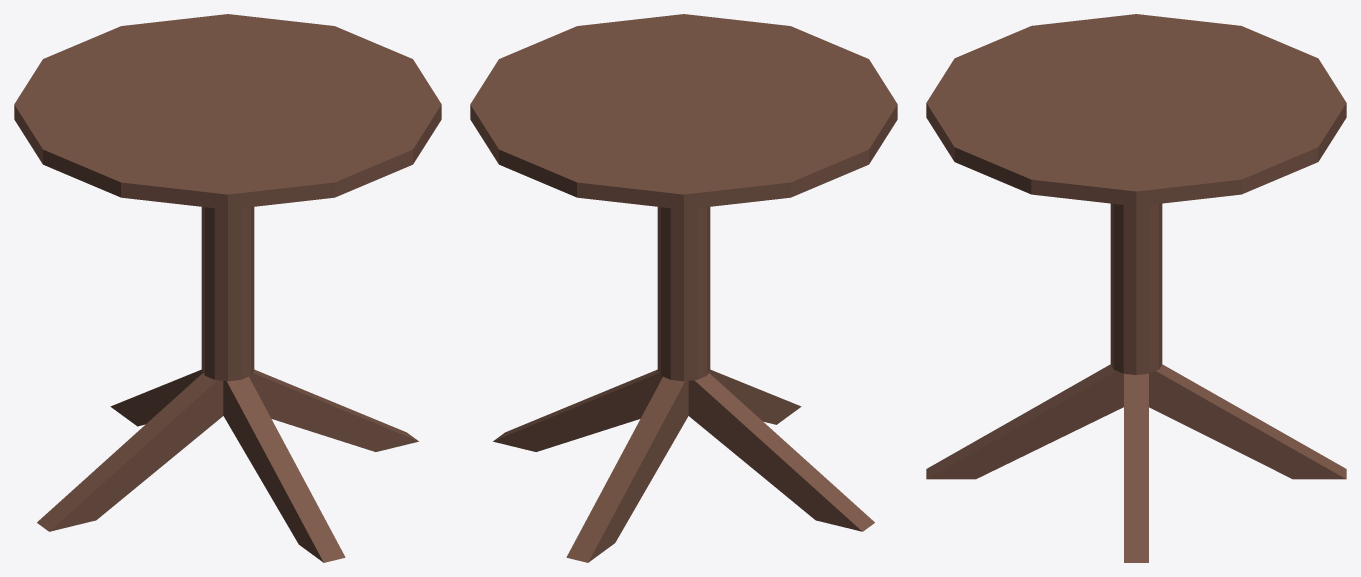
File: side_table.glb
3 renders of one model, left to right at view 1: azimuth 30°, elevation 25°; view 2: azimuth 150°, elevation 25°; view 3: azimuth 270°, elevation 25°, orthographic.
Parts seen in each view (by area): view 1: Node; view 2: Node; view 3: Node.
Boxes of the visible parts, x1,y1,x2,y2 form: Node: [14, 14, 441, 562]; Node: [470, 14, 897, 562]; Node: [926, 14, 1346, 562].
Size of the model in its own units: 1.02 by 0.995 by 1.02.
